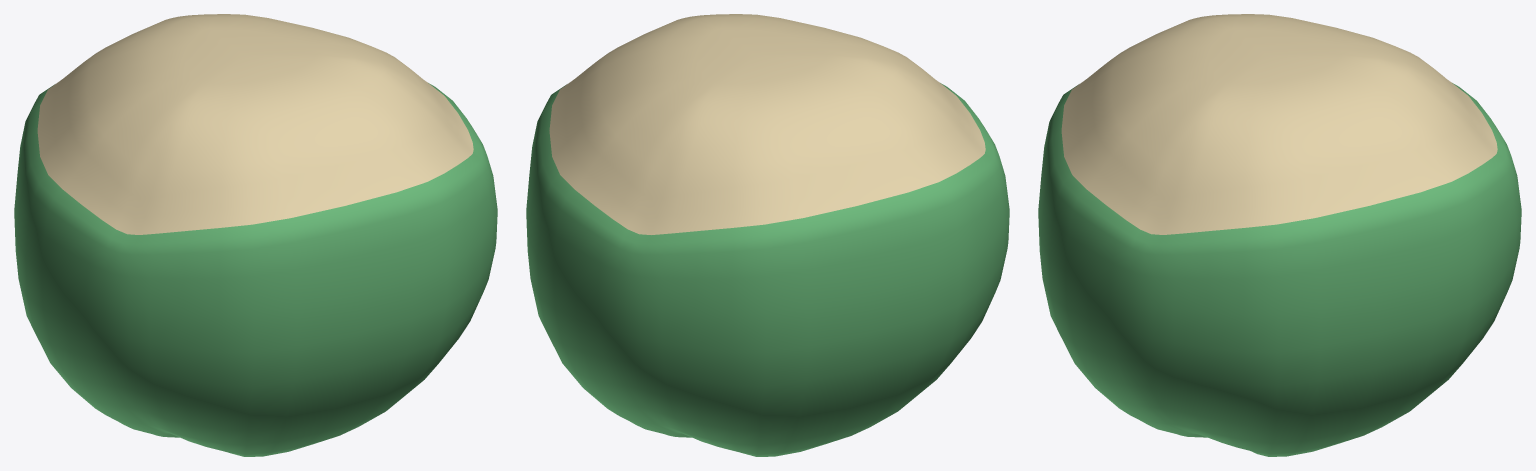
File: Coconut_05.dae
The picture shows the model from 3 angles, left to right: view 1: azimuth 30°, elevation 25°; view 2: azimuth 150°, elevation 25°; view 3: azimuth 270°, elevation 25°; orthographic projection.
Visible parts, largest first — view 1: Coconut_05_LOD0; view 2: Coconut_05_LOD0; view 3: Coconut_05_LOD0.
Part boxes in pixels (x1,y1,x2,y2): Coconut_05_LOD0: [14, 14, 497, 456]; Coconut_05_LOD0: [526, 14, 1009, 456]; Coconut_05_LOD0: [1038, 14, 1521, 456].
Size of what is drawn, in the model's own units: 4.8 by 4.72 by 4.01.
